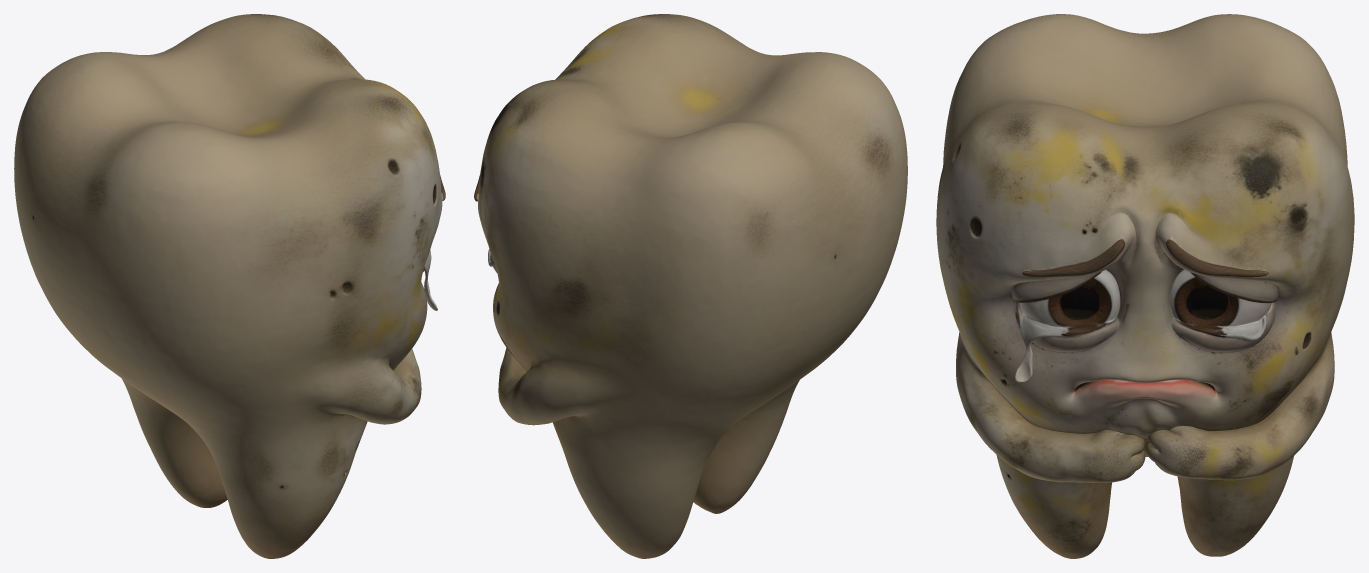
Rendered from glbData_1780604955569_u56xj.glb.
3 renders of one model, left to right at view 1: azimuth 30°, elevation 25°; view 2: azimuth 150°, elevation 25°; view 3: azimuth 270°, elevation 25°, orthographic. The views are drawn at different scales.
Visible parts, largest first — view 1: tripo_node_b666f3cb-a02a-46b8-9ff3-d73c3dd5fa7d; view 2: tripo_node_b666f3cb-a02a-46b8-9ff3-d73c3dd5fa7d; view 3: tripo_node_b666f3cb-a02a-46b8-9ff3-d73c3dd5fa7d.
Boxes of the visible parts, box(x1,y1,x2,y2) form: tripo_node_b666f3cb-a02a-46b8-9ff3-d73c3dd5fa7d: box(14, 14, 445, 558); tripo_node_b666f3cb-a02a-46b8-9ff3-d73c3dd5fa7d: box(474, 14, 907, 558); tripo_node_b666f3cb-a02a-46b8-9ff3-d73c3dd5fa7d: box(936, 14, 1354, 558).
Bounding box in the file's own units: 0.0798 × 0.1 × 0.0783.
Materials: 1 (1 with a texture image).
